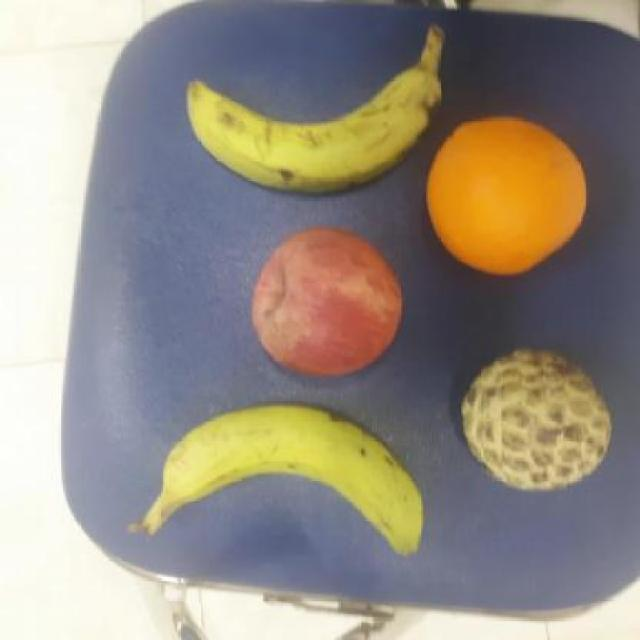apple: (243, 225, 406, 382)
banana: (132, 402, 426, 563), (182, 61, 444, 199)
oren: (422, 113, 587, 279)
sugar apple: (453, 347, 615, 495)
